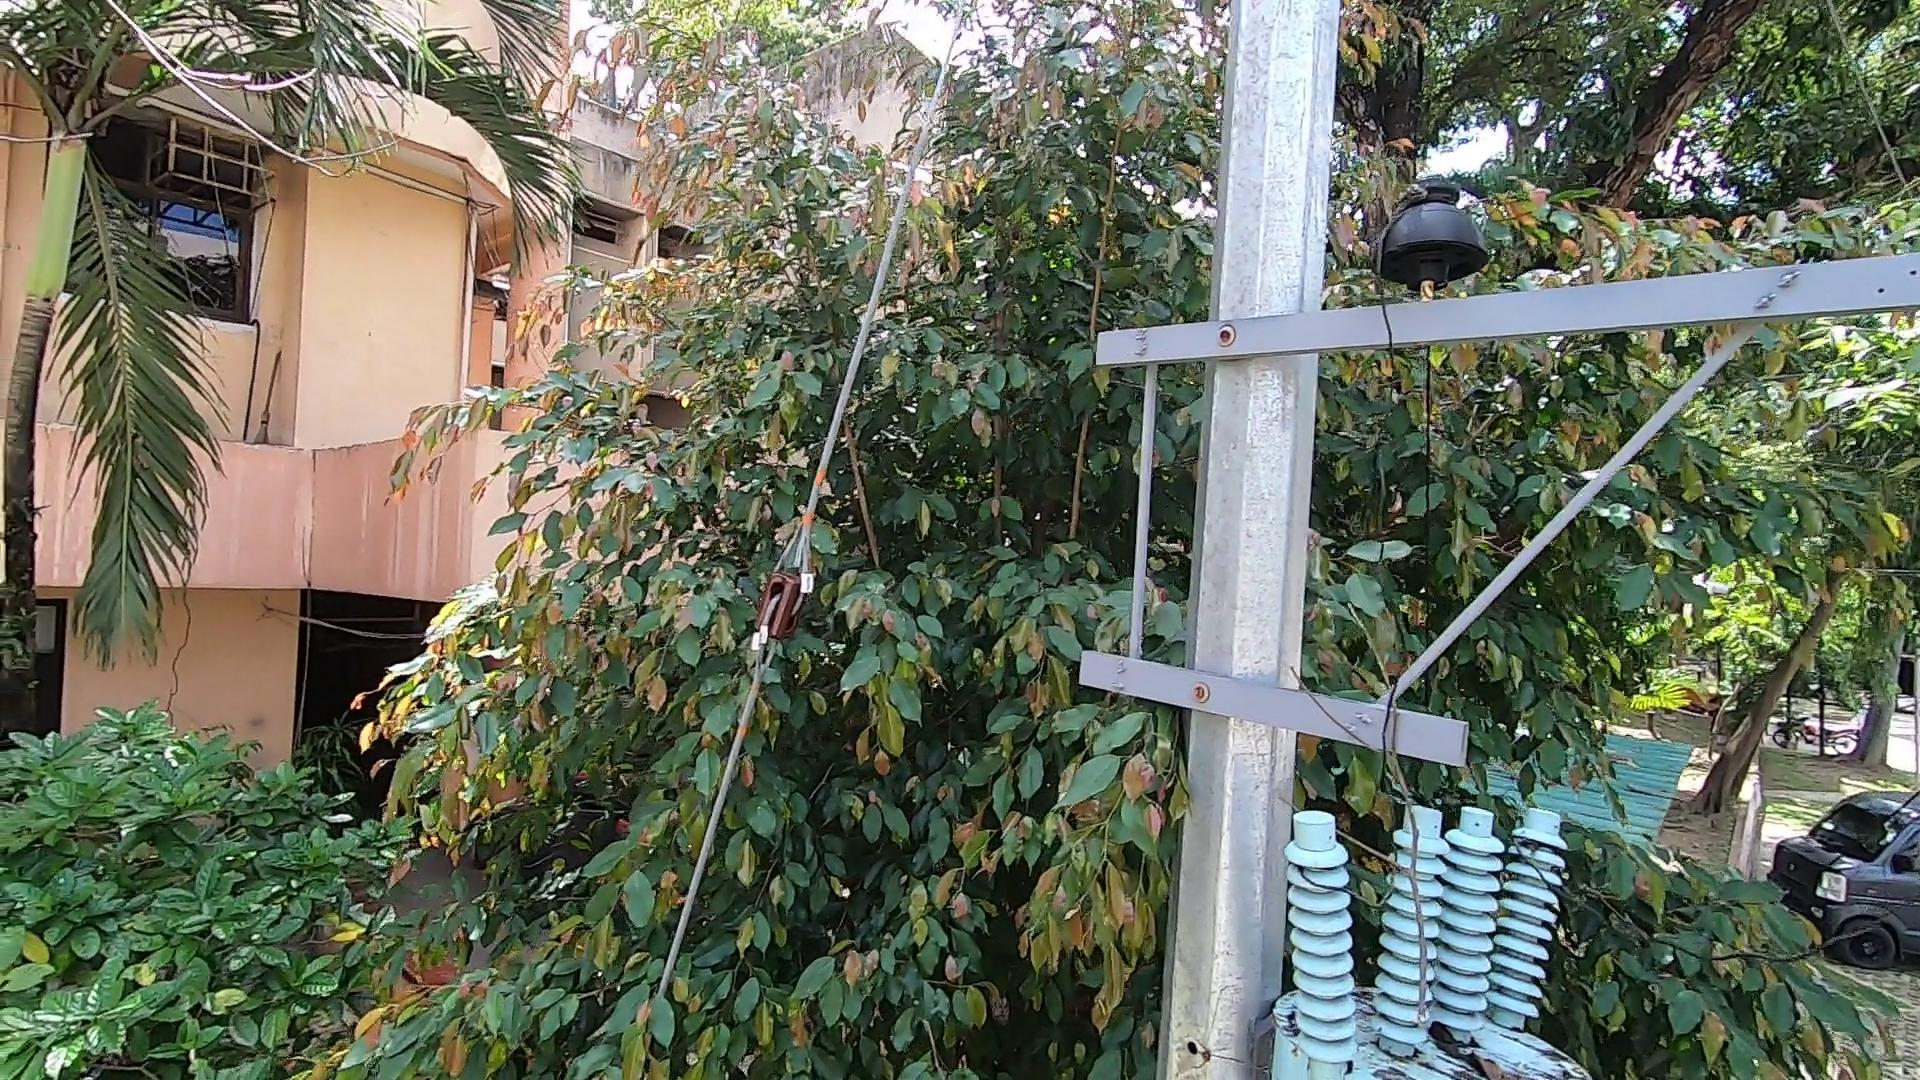leaf: (1424, 1011, 1501, 1080)
tree branch: (1279, 443, 1451, 1030)
